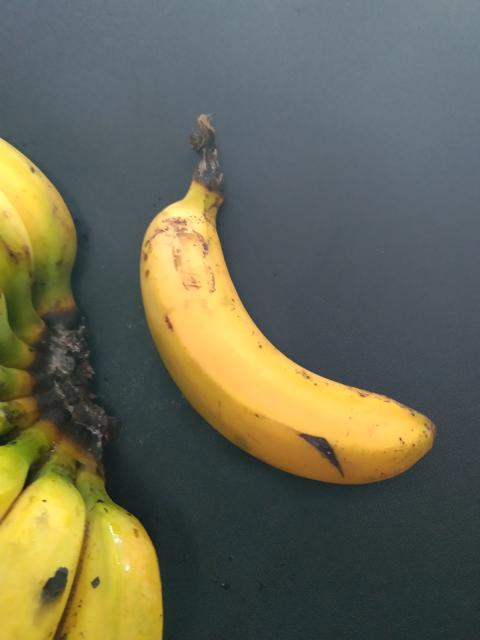ripe: (140, 172, 443, 522)
